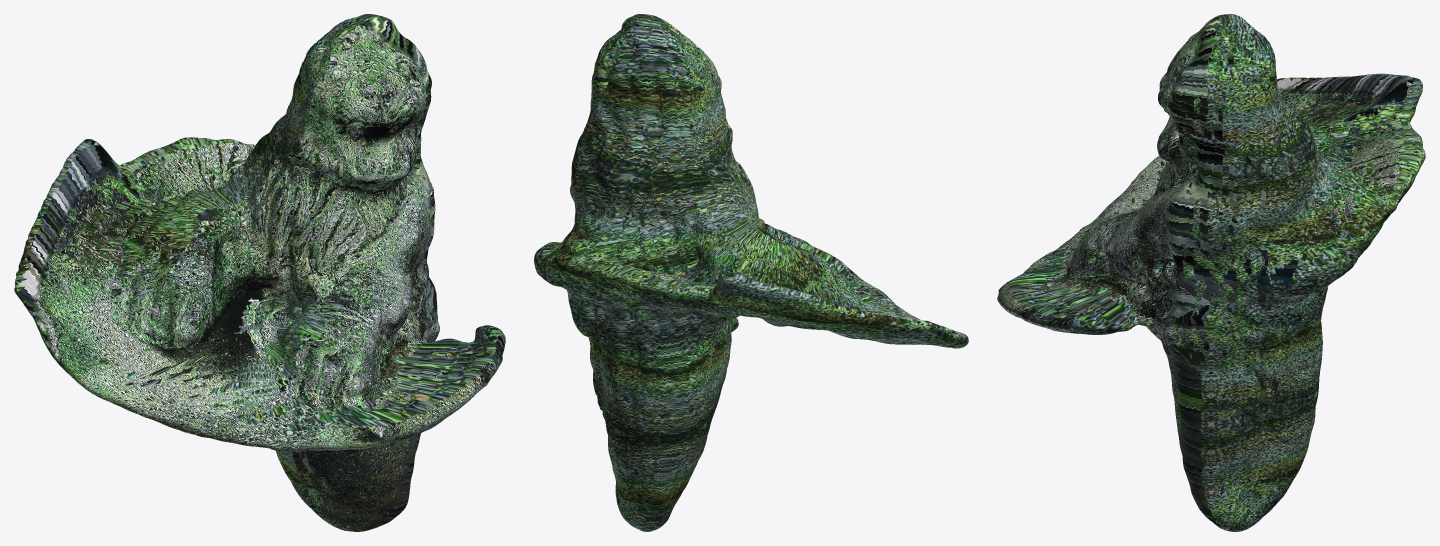
The model's file is ane-09.glb.
The picture shows the model from 3 angles, left to right: view 1: azimuth 30°, elevation 25°; view 2: azimuth 150°, elevation 25°; view 3: azimuth 270°, elevation 25°; orthographic projection. The views are drawn at different scales.
Visible parts, largest first — view 1: ane-09; view 2: ane-09; view 3: ane-09.
Part boxes in pixels (x1,y1,x2,y2): ane-09: (14, 14, 505, 531); ane-09: (534, 14, 968, 531); ane-09: (997, 14, 1425, 531).
Size of the model in its own units: 0.7912 by 0.9976 by 0.7579.
2 materials, 2 textured.
